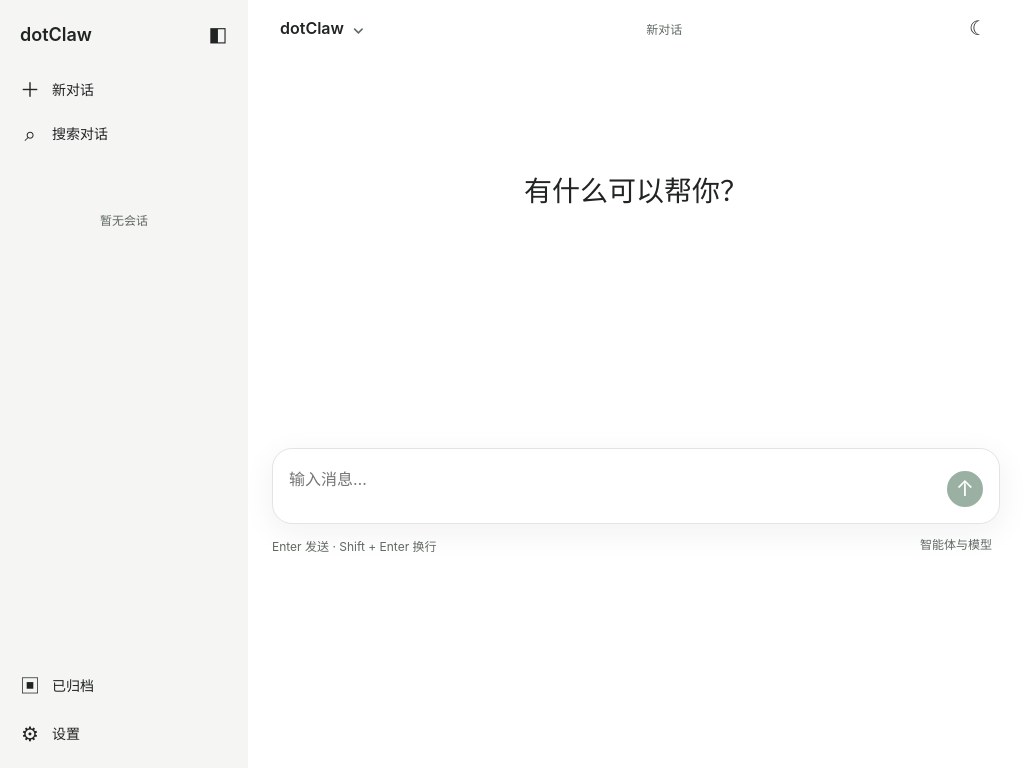
对话工作区 › 创建失败保留输入和错误；无可用模型不给出虚假发送成功
Type "保留草稿" into the text box labelled "输入消息" at (612, 487), box [289,463,935,511]
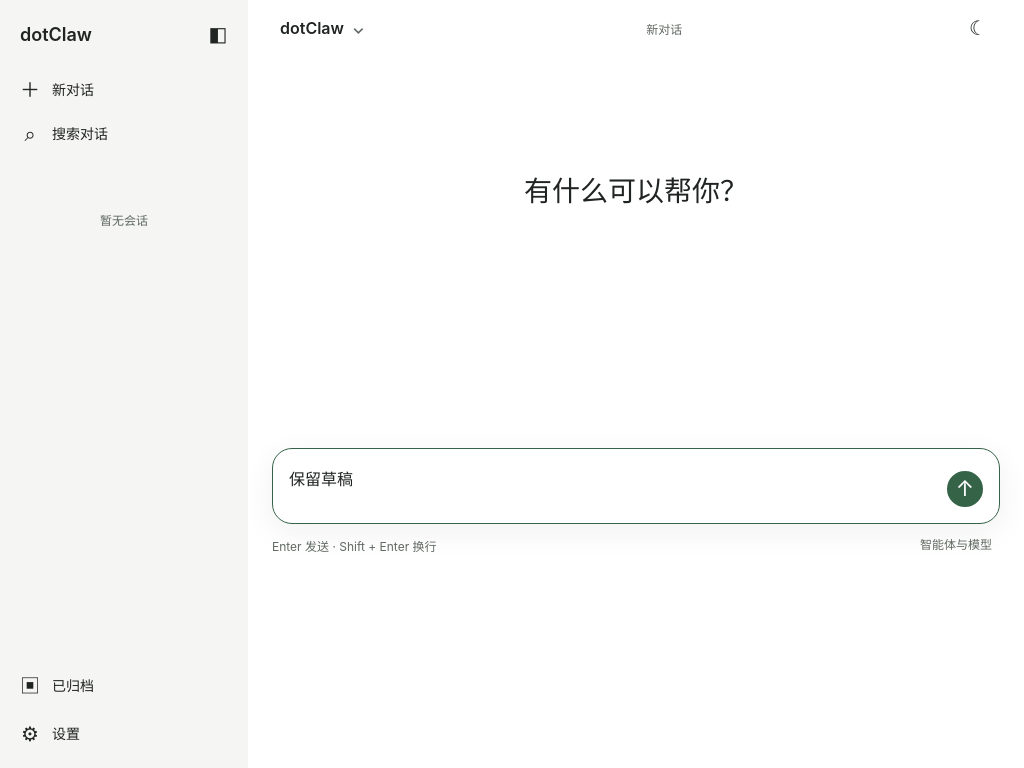
Click the button named "发送消息" at (965, 489), box [943,467,987,511]
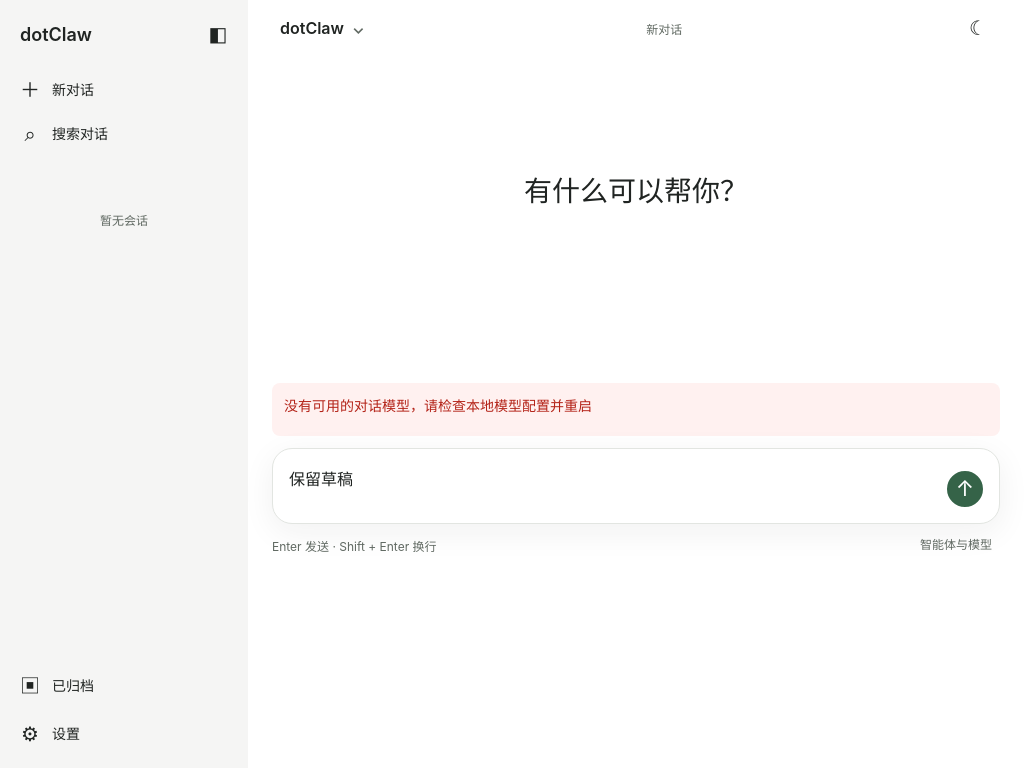
Expected: the message "没有可用的对话模型，请检查本地模型配置并重启" is shown, [272,383,1000,436]
